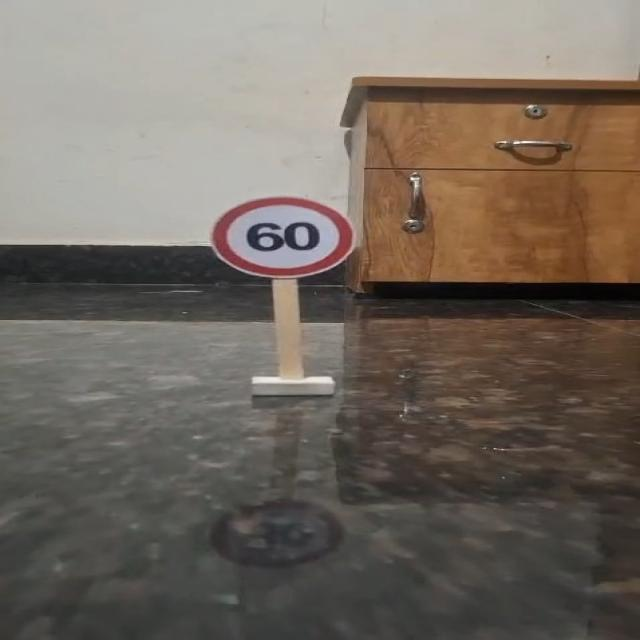Speed60: (207, 193, 361, 282)
